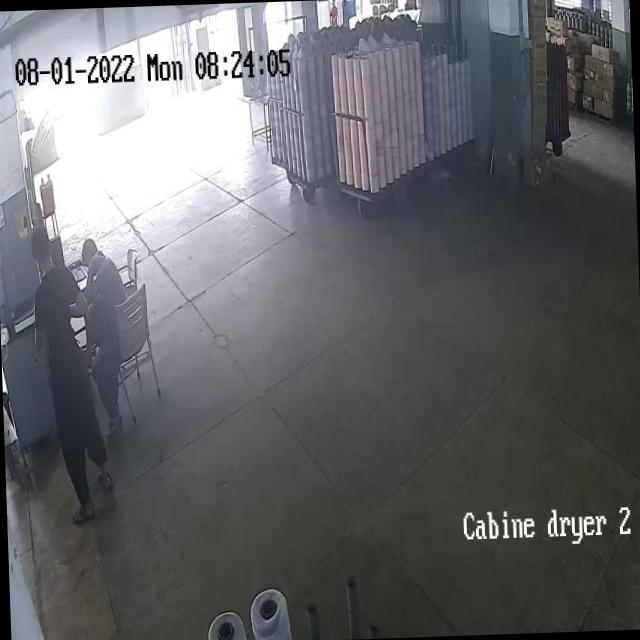person: (34, 234, 113, 490), (81, 229, 132, 402)
